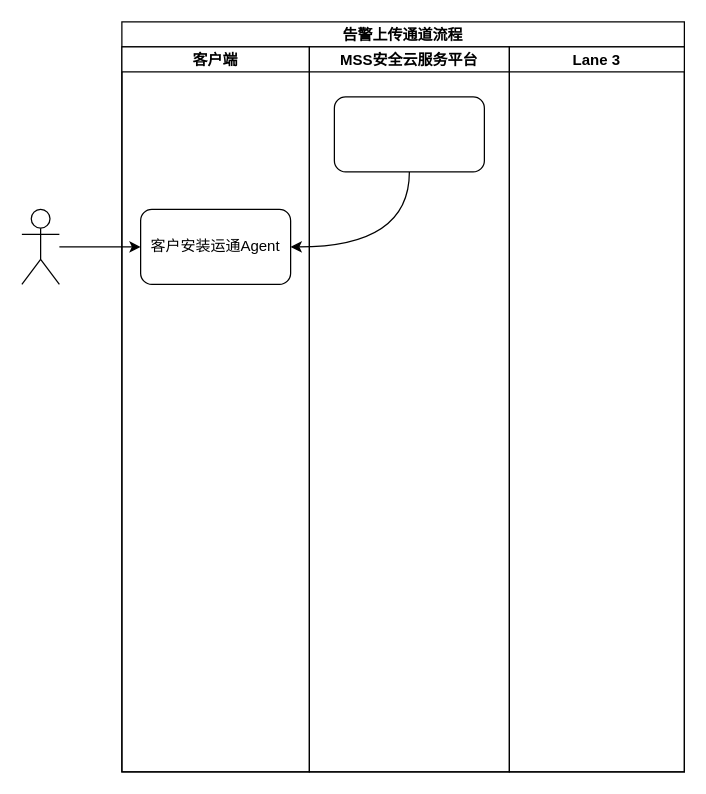
This 706x794 diagram has some shape labels left out. Each missing label, with the centre of its shape:
"Actor" belongs at (40,246).
"获取云通Agent安装命令" belongs at (408,134).
